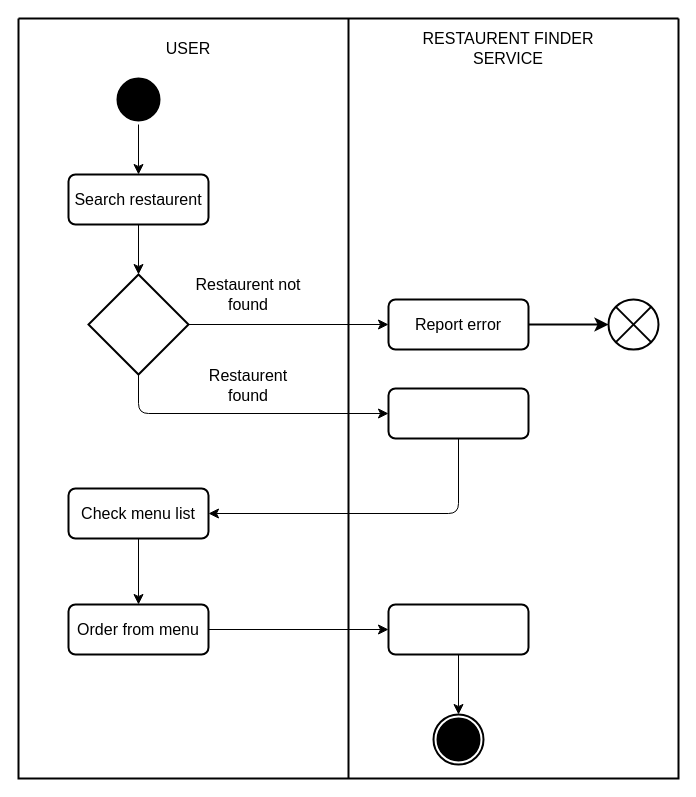
Image size: 696x797. Some labels were removed from this diagram. The box of each missing label's shape, as (x1, y1, x2, y2) in pixels:
Calculate order cost: (387, 603, 529, 655)
Show restaurant open or closed: (387, 387, 529, 439)
